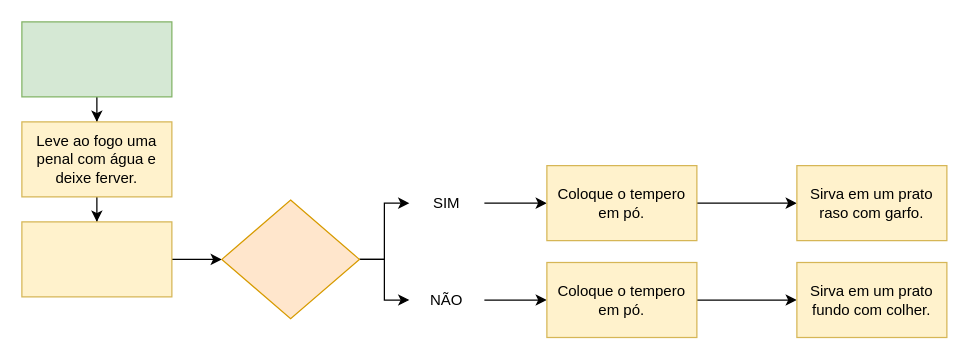
Image size: 969x360. Some labels were removed from this diagram. The shapes that lost their labels are listed below. From the top down, each one's box as (x1, y1, x2, y2) in pixels, then its label:
(21, 21, 172, 97): INICÍO
(21, 221, 172, 297): Após a água ferver, insira o macarrão e aguarde cozinhar por 3 minutos.
(221, 199, 359, 319): Escorre a água?
